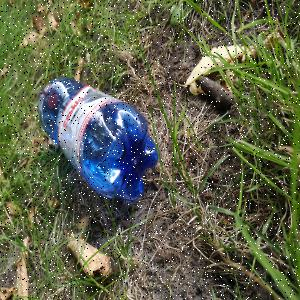Plastic-bottle: (39, 77, 161, 203)
